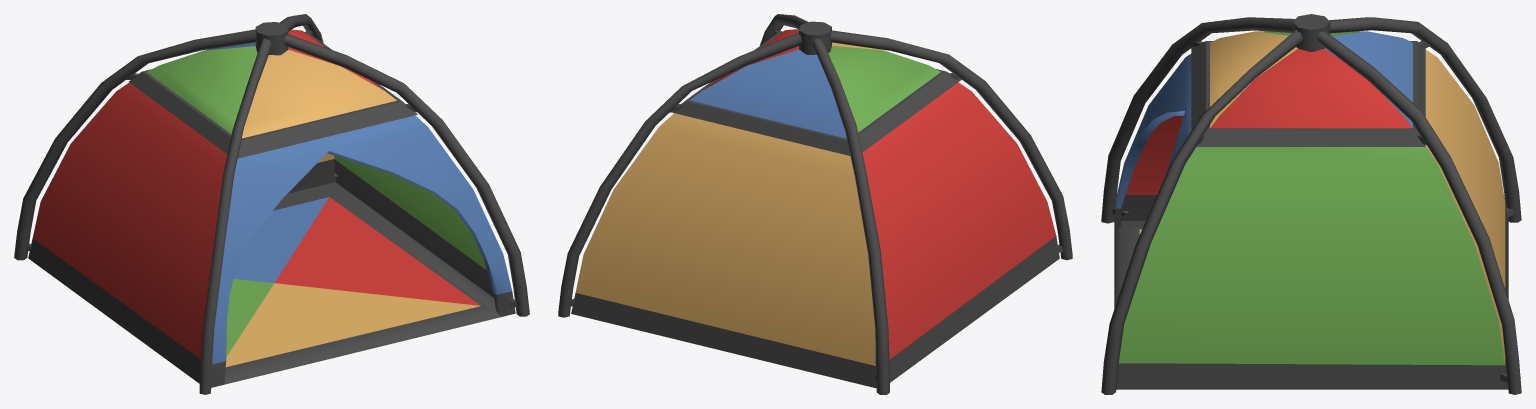
The model's file is Tent_01.fbx.
3 views of the same model, side by side, from view 1: azimuth 30°, elevation 25°; view 2: azimuth 150°, elevation 25°; view 3: azimuth 270°, elevation 25° (orthographic). The views are drawn at different scales.
Visible parts, largest first — view 1: Tent_01; view 2: Tent_01; view 3: Tent_01.
Part boxes in pixels (x1,y1,x2,y2): Tent_01: (14, 14, 529, 394); Tent_01: (558, 14, 1072, 394); Tent_01: (1101, 14, 1521, 394).
Size of the model in its own units: 1.83 by 1.36 by 1.83.
